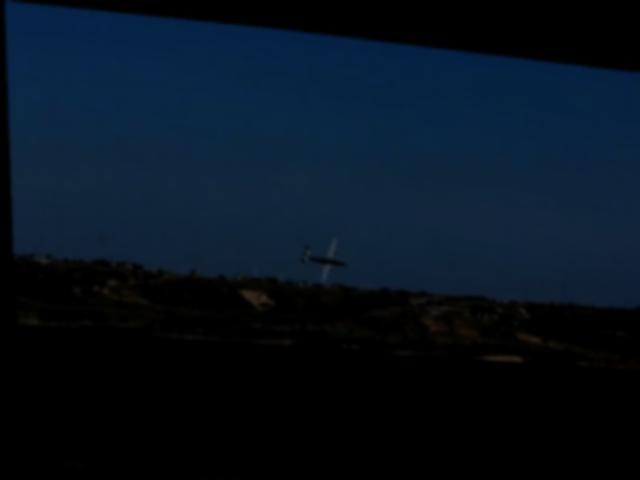iha: (297, 221, 355, 279)
